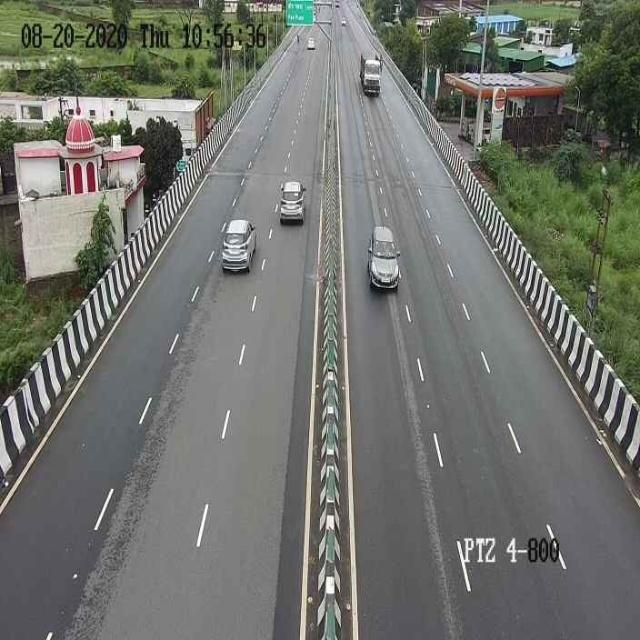car: (362, 218, 404, 296), (217, 217, 256, 274), (277, 180, 305, 225)
